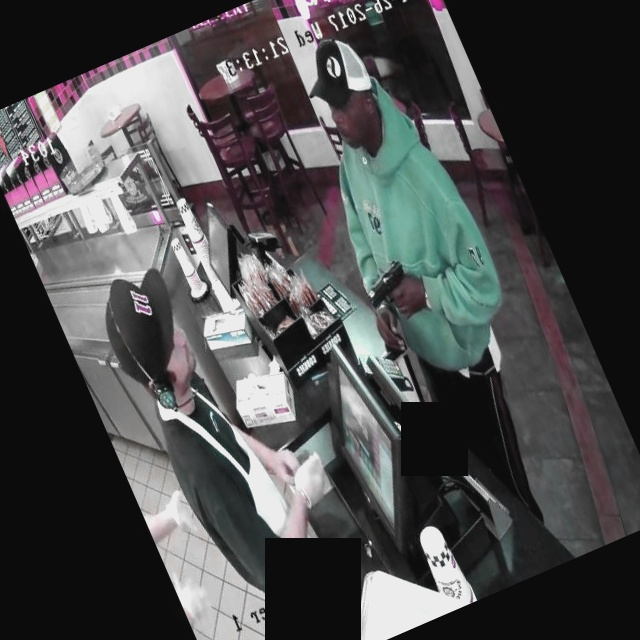gun: (343, 237, 434, 332)
